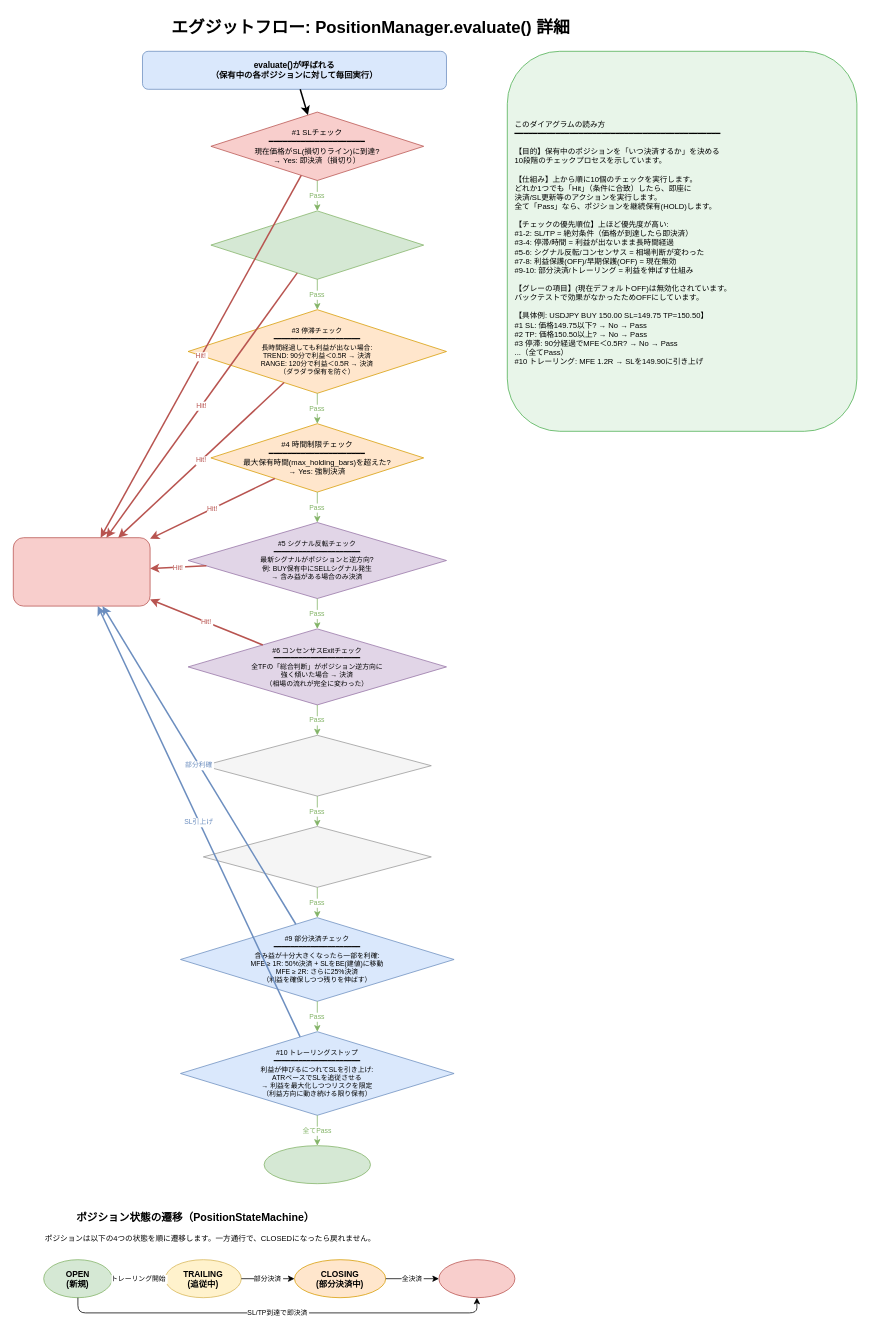
Some shapes in this 870 by 1332 pixel diagram are drawn without their labels. The shapes that lost their labels are listed below. From the top down, each one's centre as x and y in pixels, then its label:
At point 317,244: "#2 TPチェック ━━━━━━━━━━━━━━━━━━━━━ 現在価格がTP(利確ライン)に到達? → Yes: 即決済（利確）".
At point 81,571: "決済 or SL更新 ━━━━━━━━━━━━━━ FULL_CLOSE(全決済) PARTIAL_CLOSE(部分決済) UPDATE_SL(SL引き上げ)".
At point 317,765: "#7 利益反転チェック (現在デフォルトOFF — 効果なし) ━━━━━━━━━━━━━━━━━━━━━ 含み益が反転し始めた場合の決済".
At point 317,856: "#8 早期利益保護 (現在デフォルトOFF — 効果なし) ━━━━━━━━━━━━━━━━━━━━━ BE付近で停滞時のSL更新/決済".
At point 316,1164: "HOLD (継続保有)".
At point 476,1278: "CLOSED (完了)".
